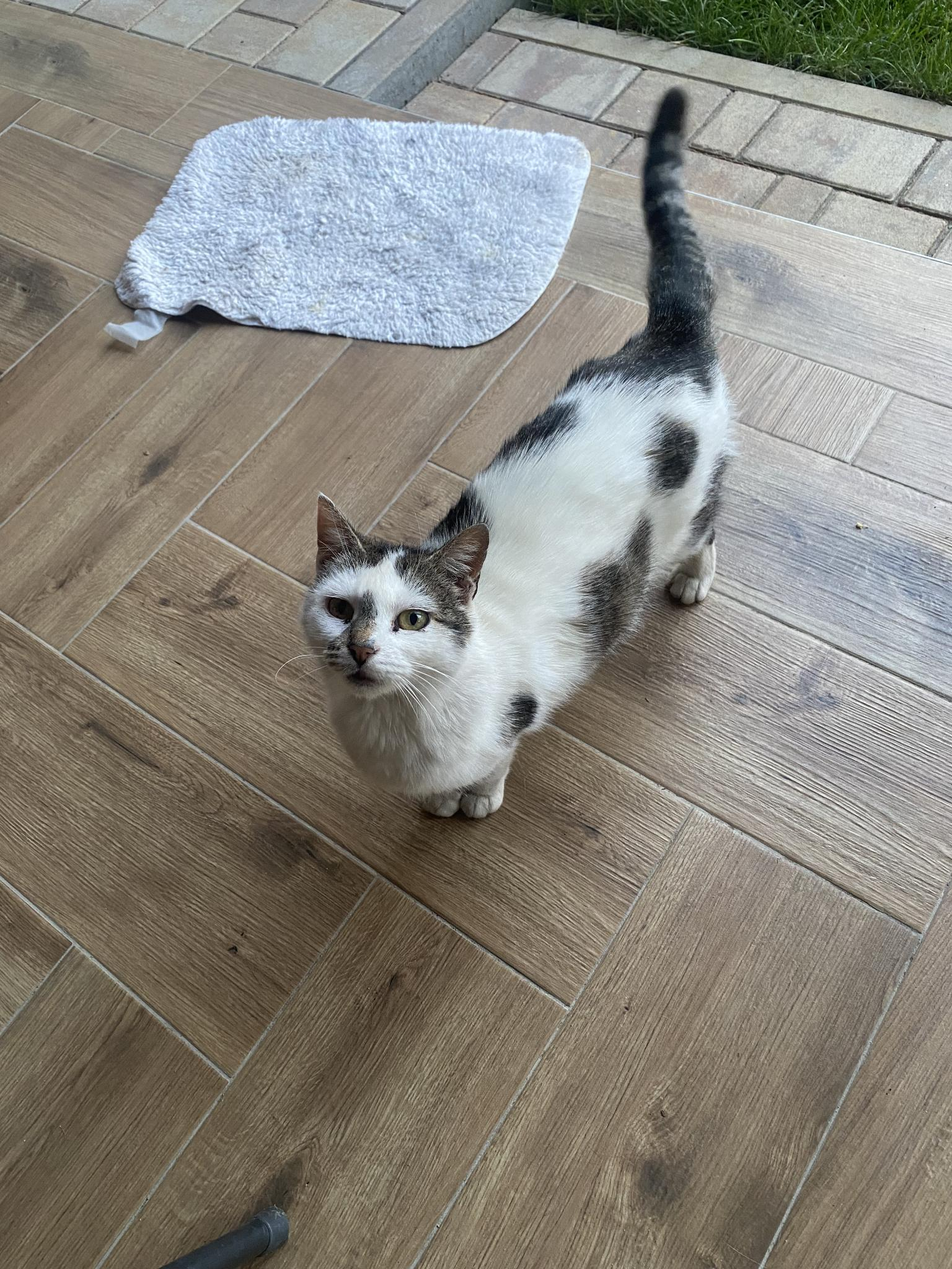macka: (299, 85, 737, 821)
